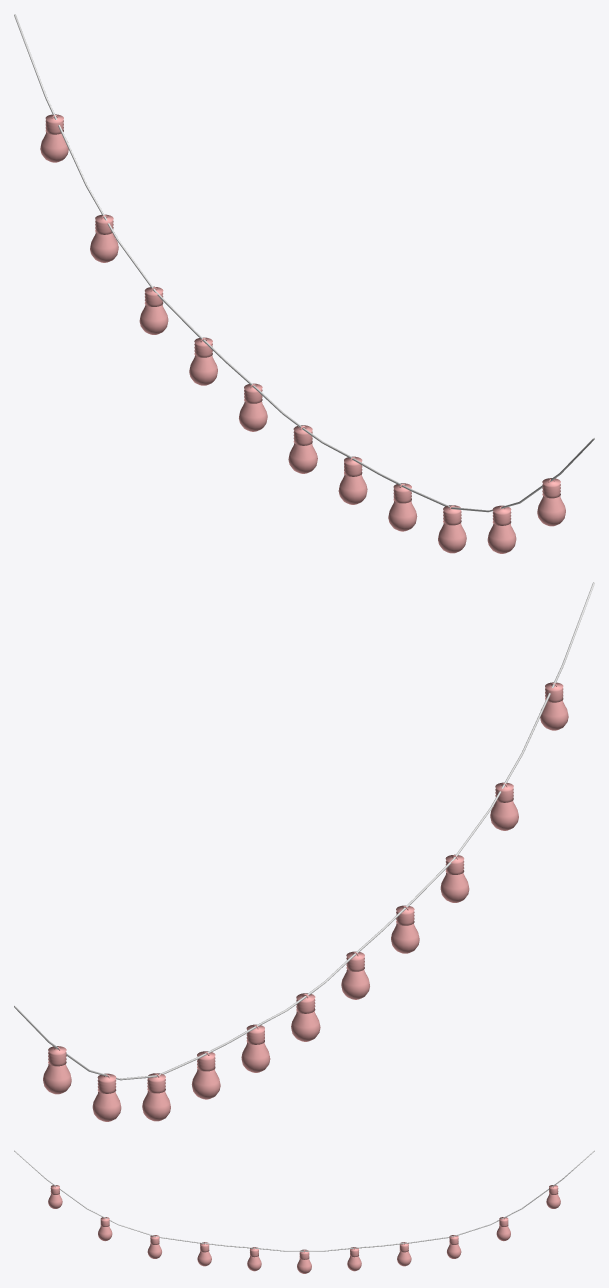
The model's file is longlämp.fbx.
3 views of the same model, one above another, from view 1: azimuth 30°, elevation 25°; view 2: azimuth 150°, elevation 25°; view 3: azimuth 270°, elevation 25° (orthographic). The views are drawn at different scales.
Parts seen in each view (by area): view 1: lamp, cable; view 2: lamp, cable; view 3: lamp, cable.
Boxes of the visible parts, left/top/right/bottom form: lamp: left=40, top=114, right=565, bottom=553; cable: left=14, top=14, right=594, bottom=512; lamp: left=43, top=682, right=568, bottom=1121; cable: left=14, top=582, right=594, bottom=1080; lamp: left=48, top=1185, right=560, bottom=1273; cable: left=14, top=1150, right=594, bottom=1251.
Bounding box in the file's own units: 0.1535 × 1.43 × 6.09.
